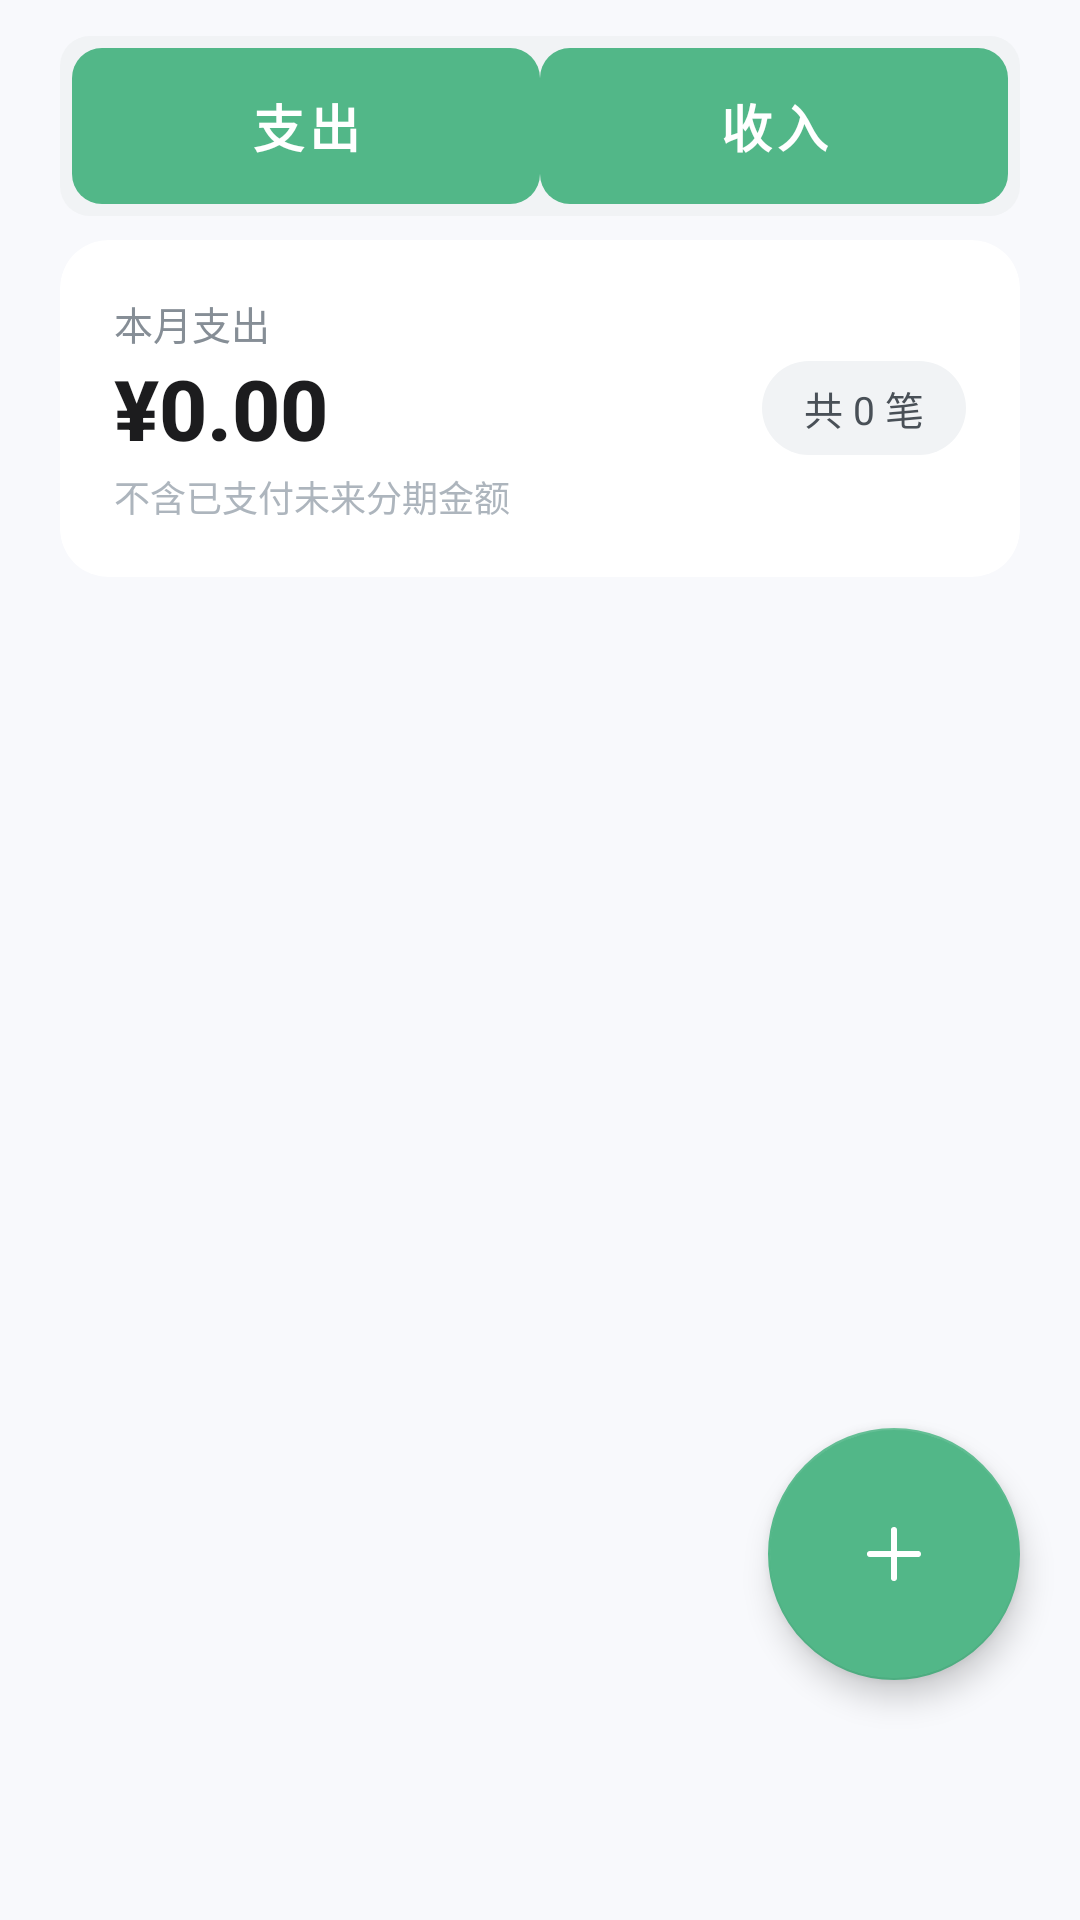

Locate icon controls on the screen. Image size 1080w x 1920h, boxes as BBox(x1, y1, x2, y2).
add: BBox(768, 1428, 1020, 1680)
